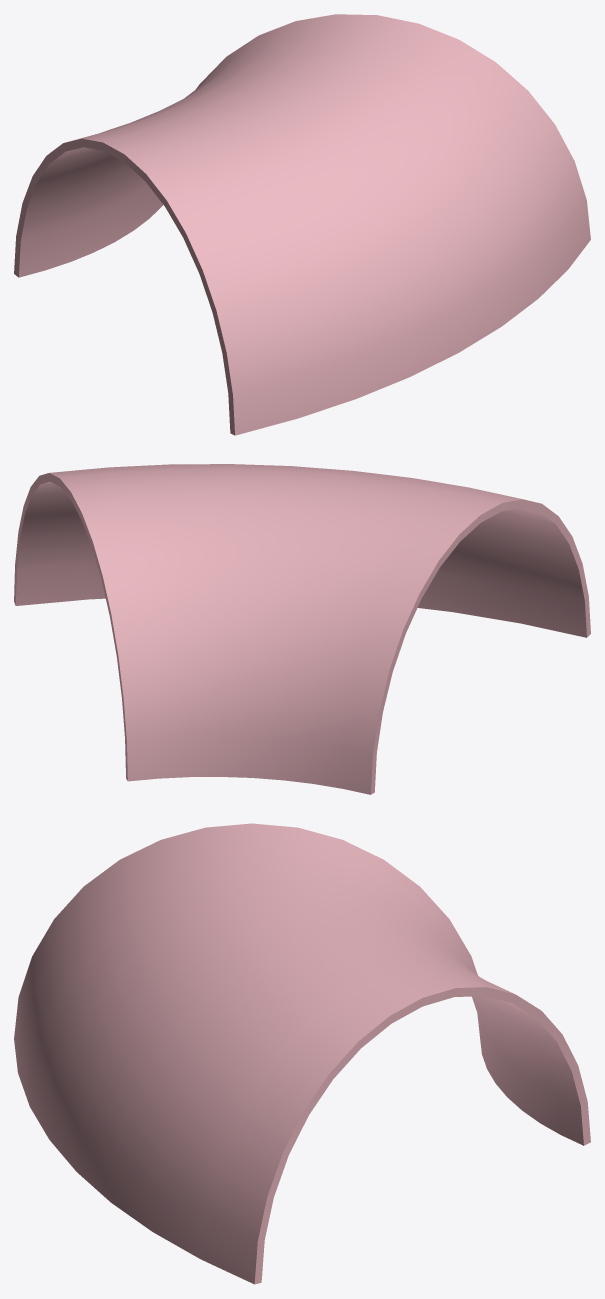
File: Tunnel.fbx
The picture shows the model from 3 angles, top to bottom: view 1: azimuth 30°, elevation 25°; view 2: azimuth 150°, elevation 25°; view 3: azimuth 270°, elevation 25°; orthographic projection. The views are drawn at different scales.
Visible parts, largest first — view 1: Tunnel; view 2: Tunnel; view 3: Tunnel.
Part boxes in pixels (x1,y1,x2,y2): Tunnel: [14, 14, 590, 435]; Tunnel: [14, 464, 590, 794]; Tunnel: [14, 823, 590, 1284].
Bounding box in the file's own units: 1222 × 502 × 1213.
